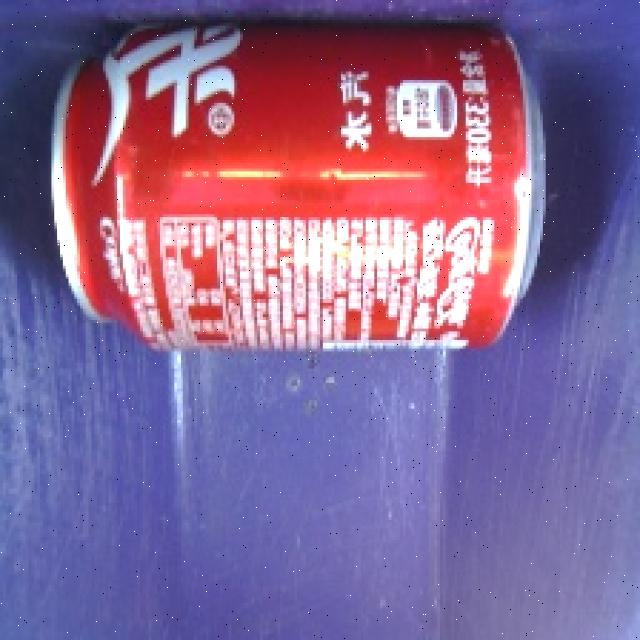metal: (34, 0, 563, 369)
